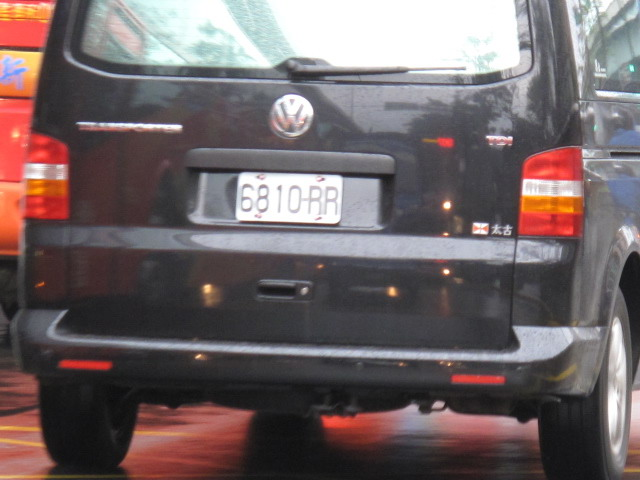plate: (235, 170, 345, 227)
